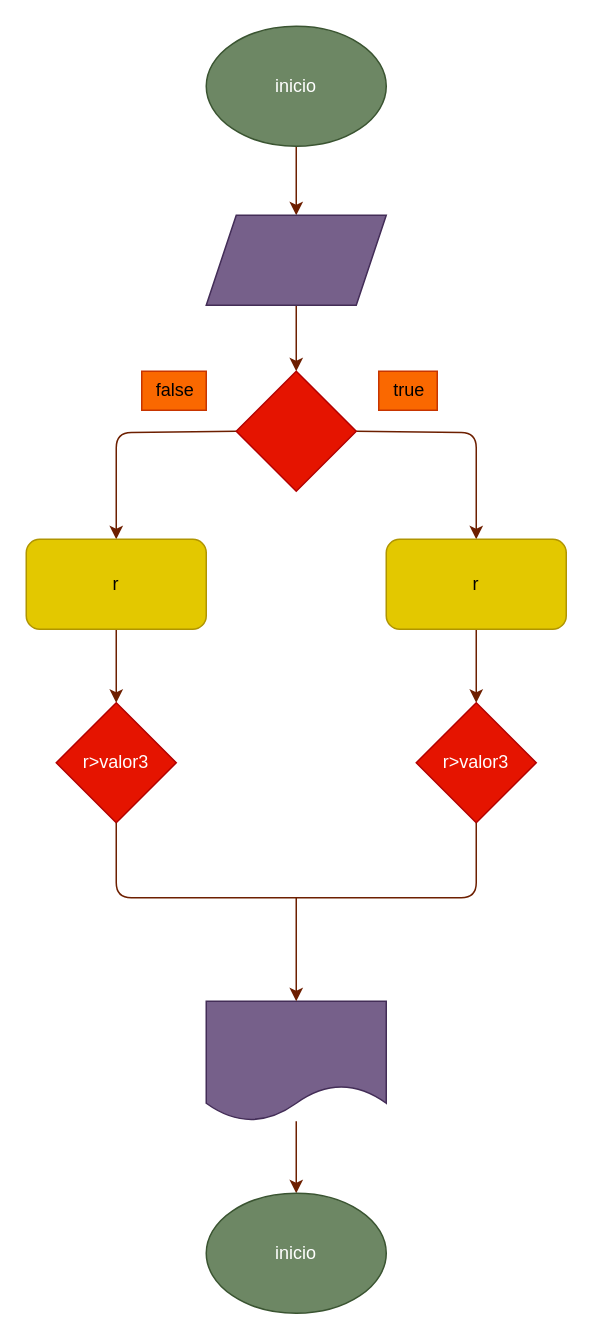
Some shapes in this 593 by 1340 pixel diagram are drawn without their labels. Each missing label, with the centre of its shape:
"rta" belongs at [295,1060].
"valor 1 valor 2 valor 3" belongs at [295,259].
"valor1>valor2" belongs at [295,430].
